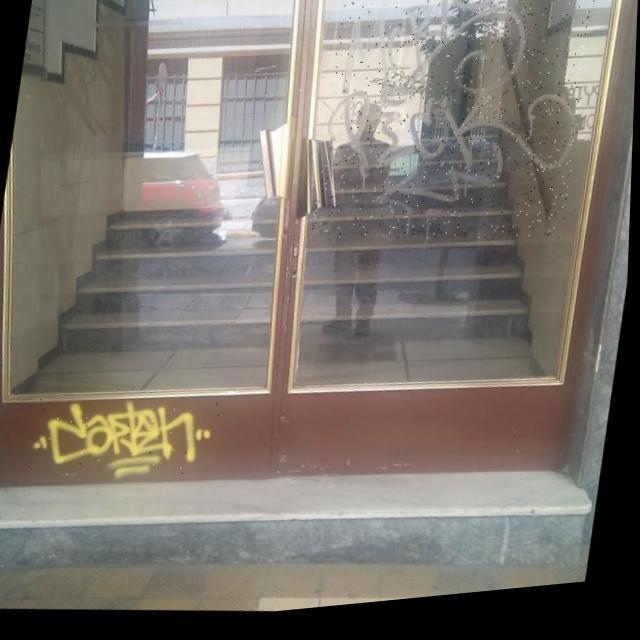-: (311, 0, 597, 270), (27, 386, 225, 496)
